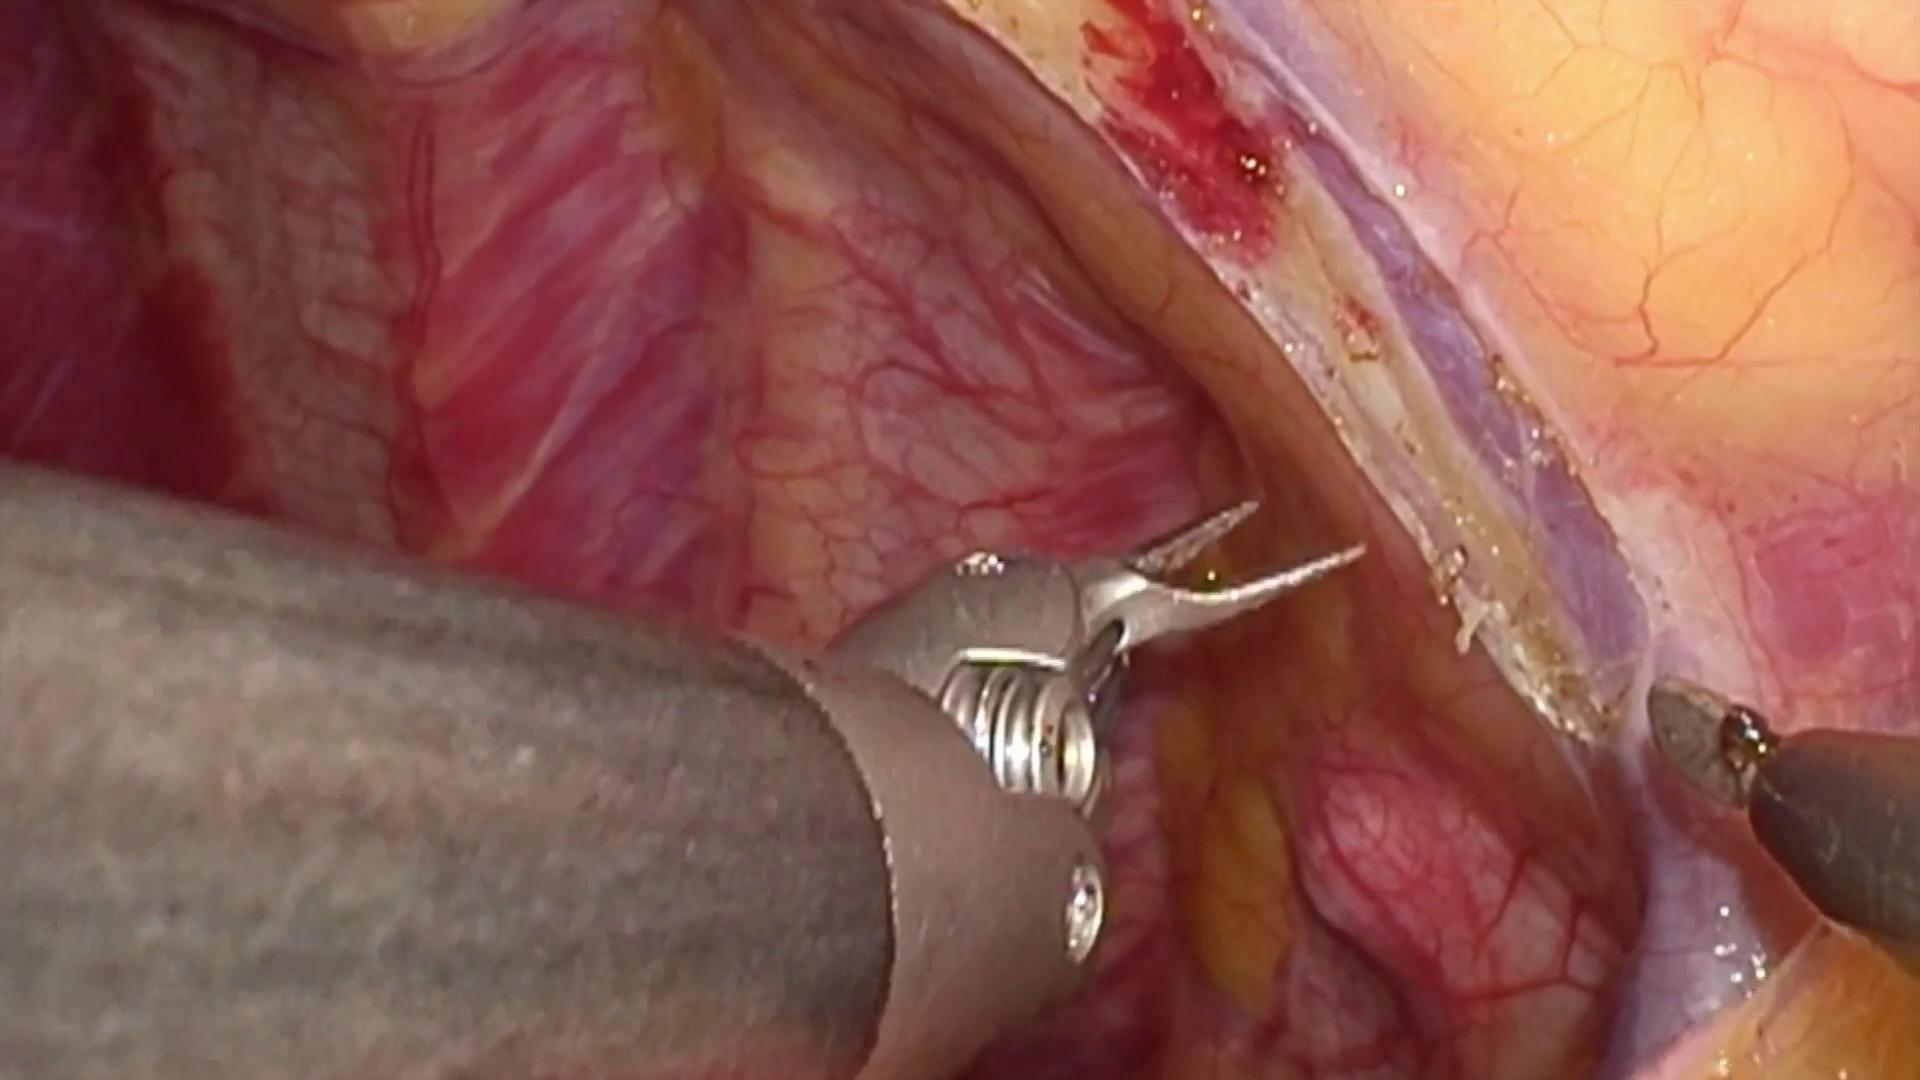Cautery_Spatula: (1648, 666, 1920, 963)
Debakey: (1042, 488, 1379, 676)
